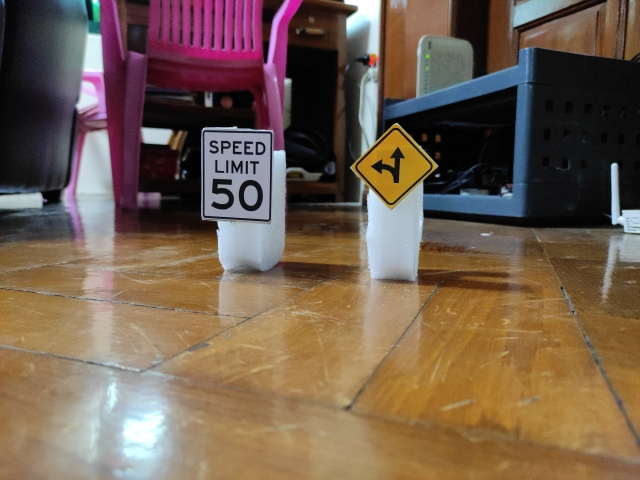Speed Limit 50: (200, 127, 275, 224)
Straight Or Left Sign: (352, 125, 435, 207)
